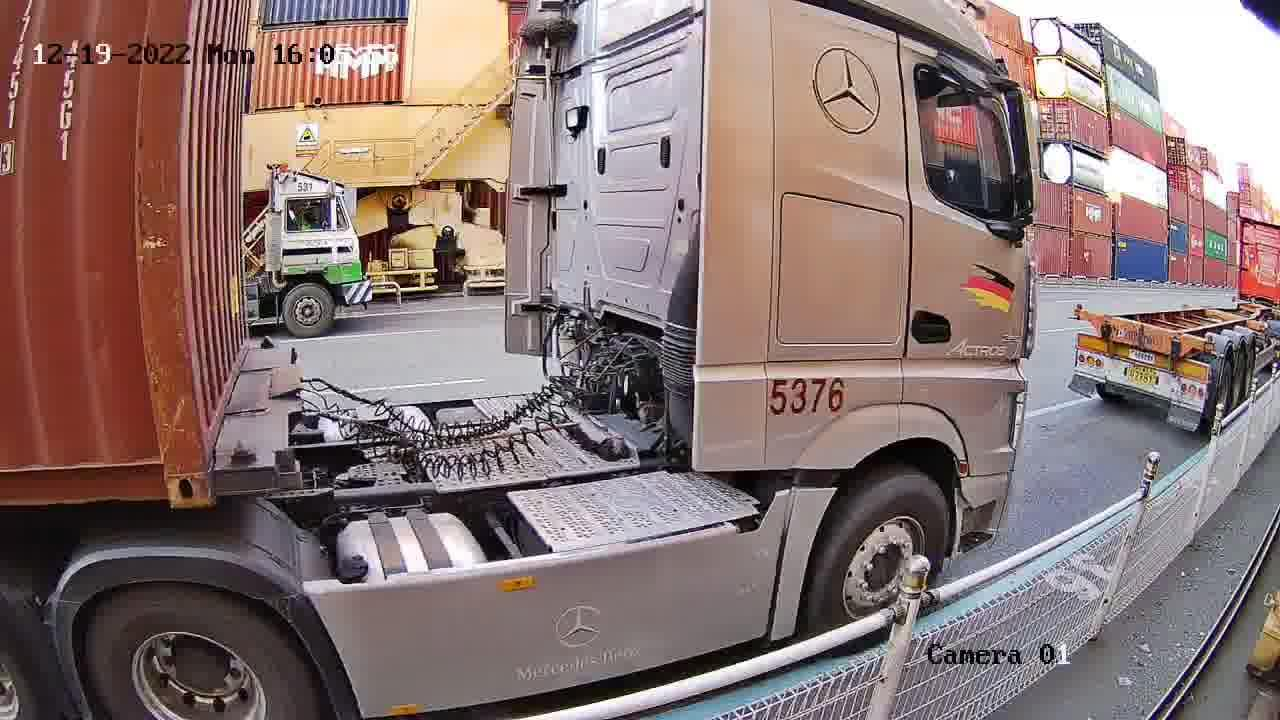Chassis: (212, 345, 291, 493)
Hole_R: (109, 424, 211, 506)
Tire: (86, 585, 310, 715)
